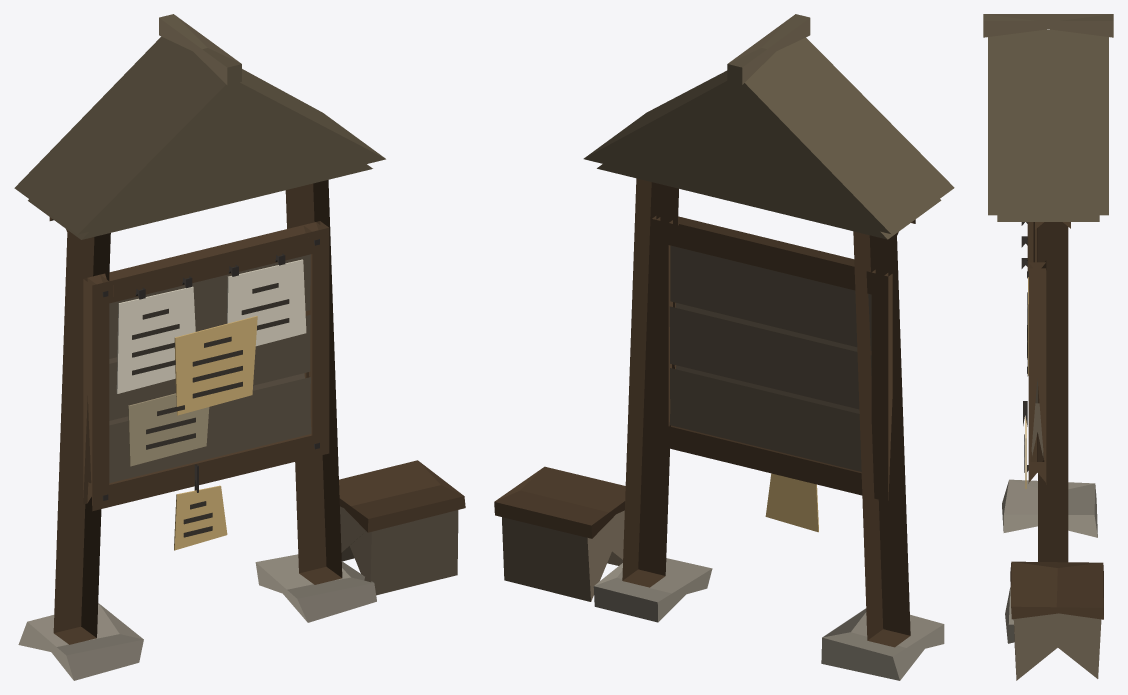
Rendered from fv_notice_board.glb.
3 renders of one model, left to right at view 1: azimuth 30°, elevation 25°; view 2: azimuth 150°, elevation 25°; view 3: azimuth 270°, elevation 25°, orthographic. The views are drawn at different scales.
Parts seen in each view (by area): view 1: nb_roof.001, nb_post_l.001, nb_post_r.001, nb_plank_0.001, nb_crate.001, nb_crate_lid.001, nb_frame_l.001, nb_notice_b.001, nb_notice_a.001, nb_frame_b.001, nb_notice_c.001, nb_pad_l.001 (+10 smaller); view 2: nb_roof.001, nb_post_l.001, nb_post_r.001, nb_plank_0.001, nb_plank_1.001, nb_plank_2.001, nb_crate.001, nb_crate_lid.001, nb_frame_t.001, nb_frame_b.001, nb_pad_l.001, nb_frame_l.001 (+5 smaller); view 3: nb_roof.001, nb_post_r.001, nb_crate_lid.001, nb_crate.001, nb_frame_r.001, nb_pad_l.001, nb_ridge.001, nb_roof_in.001, nb_frame_t.001, nb_plank_0.001, nb_frame_b.001, nb_pad_r.001.
Part boxes in pixels (left/top/right/bottom): nb_roof.001: left=14, top=36, right=385, bottom=234; nb_post_l.001: left=53, top=233, right=110, bottom=644; nb_post_r.001: left=285, top=180, right=342, bottom=584; nb_plank_0.001: left=109, top=373, right=311, bottom=482; nb_crate.001: left=340, top=506, right=458, bottom=595; nb_crate_lid.001: left=339, top=460, right=465, bottom=532; nb_frame_l.001: left=83, top=275, right=109, bottom=511; nb_notice_b.001: left=174, top=316, right=257, bottom=415; nb_notice_a.001: left=116, top=286, right=195, bottom=393; nb_frame_b.001: left=87, top=432, right=324, bottom=506; nb_notice_c.001: left=227, top=259, right=306, bottom=346; nb_pad_l.001: left=18, top=603, right=143, bottom=680; nb_roof.001: left=583, top=37, right=954, bottom=234; nb_post_l.001: left=853, top=231, right=910, bottom=647; nb_post_r.001: left=622, top=178, right=678, bottom=587; nb_plank_0.001: left=669, top=365, right=861, bottom=471; nb_plank_1.001: left=669, top=303, right=871, bottom=409; nb_plank_2.001: left=670, top=245, right=871, bottom=350; nb_crate.001: left=502, top=510, right=624, bottom=601; nb_crate_lid.001: left=494, top=466, right=625, bottom=538; nb_frame_t.001: left=656, top=216, right=888, bottom=297; nb_frame_b.001: left=656, top=423, right=884, bottom=500; nb_pad_l.001: left=821, top=608, right=944, bottom=680; nb_frame_l.001: left=871, top=269, right=892, bottom=501; nb_roof.001: left=988, top=29, right=1108, bottom=215; nb_post_r.001: left=1038, top=222, right=1068, bottom=562; nb_crate_lid.001: left=1010, top=561, right=1103, bottom=619; nb_crate.001: left=1013, top=613, right=1101, bottom=680; nb_frame_r.001: left=1028, top=262, right=1046, bottom=484; nb_pad_l.001: left=1002, top=479, right=1097, bottom=537; nb_ridge.001: left=983, top=14, right=1113, bottom=37; nb_roof_in.001: left=997, top=215, right=1099, bottom=221; nb_frame_t.001: left=1028, top=222, right=1046, bottom=270; nb_plank_0.001: left=1031, top=378, right=1043, bottom=457; nb_frame_b.001: left=1029, top=432, right=1045, bottom=482; nb_pad_r.001: left=1005, top=587, right=1014, bottom=643.
Size of the model in its own units: 1.91 by 2.65 by 0.56.
